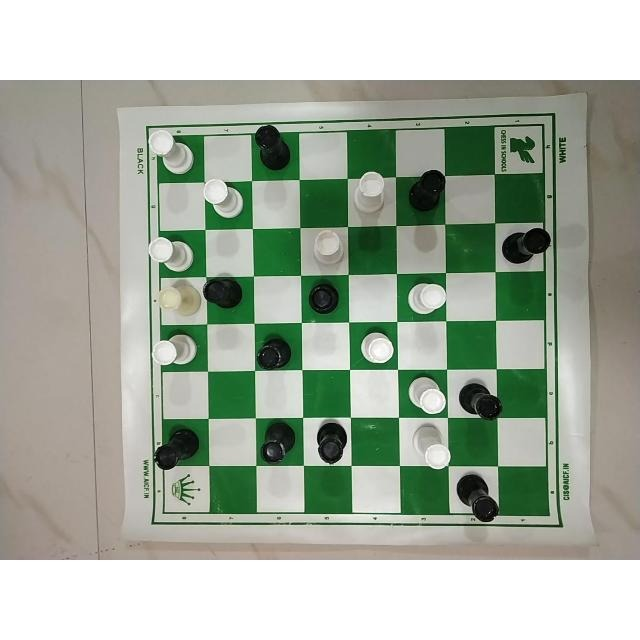black-rook: (150, 425, 202, 475), (499, 223, 555, 268), (452, 475, 503, 523), (404, 167, 449, 218), (453, 378, 505, 422), (252, 123, 296, 173), (258, 422, 300, 466), (200, 274, 246, 314), (253, 334, 295, 373), (315, 419, 349, 462), (304, 280, 341, 315)
white-rook: (146, 130, 197, 176), (148, 331, 200, 370), (409, 424, 451, 471), (146, 235, 197, 273), (349, 170, 391, 216), (149, 281, 203, 316), (199, 179, 245, 218), (405, 374, 447, 413), (404, 280, 449, 316), (309, 227, 347, 267), (359, 331, 395, 363)
